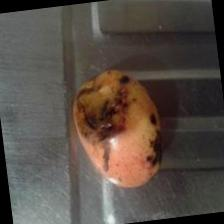Mango Rotten: (65, 67, 172, 196)
